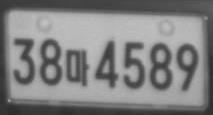3: (11, 37, 35, 84)
4: (94, 40, 120, 88)
5: (123, 41, 146, 89)
8: (149, 42, 174, 90), (39, 38, 63, 86)
9: (176, 42, 199, 91)
마: (65, 48, 90, 87)
